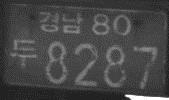0: (113, 13, 131, 36)
2: (73, 41, 98, 86)
7: (131, 44, 158, 91)
8: (45, 40, 69, 84), (103, 44, 127, 88), (92, 13, 110, 35)
경남_O: (39, 10, 84, 34)
두: (9, 38, 37, 67)
